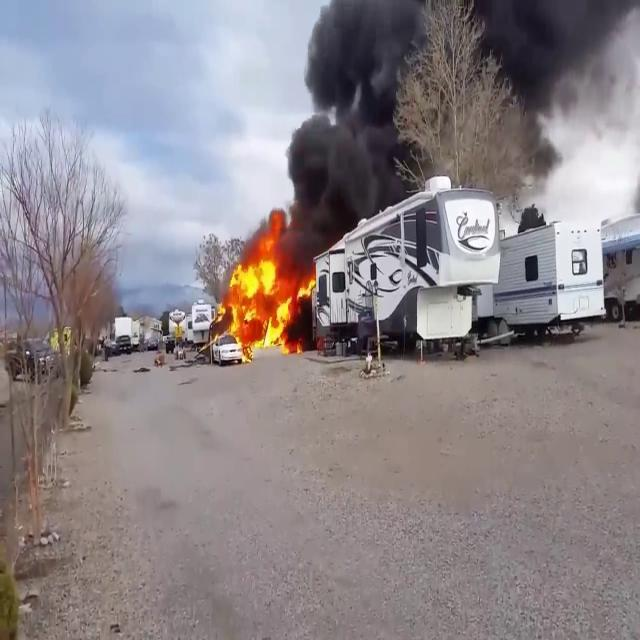Fire: (218, 245, 300, 356)
Smoke: (274, 0, 429, 254), (484, 0, 640, 228)
